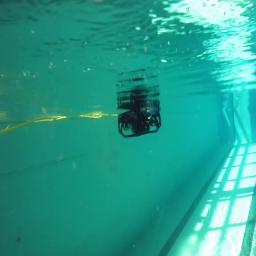Full: (118, 108, 161, 138)
front: (117, 108, 162, 139)
